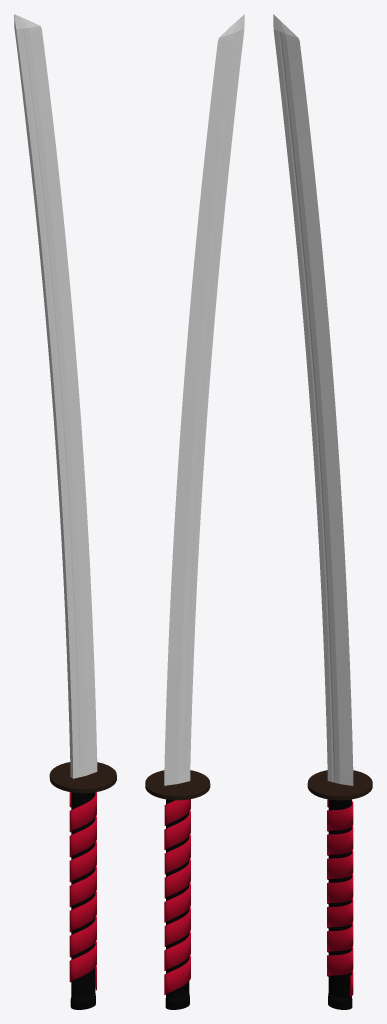
File: katanastraippi3.fbx
3 renders of one model, left to right at view 1: azimuth 30°, elevation 25°; view 2: azimuth 210°, elevation 25°; view 3: azimuth 330°, elevation 25°, orthographic. The views are drawn at different scales.
Parts seen in each view (by area): view 1: Cylinder, Plane.001; view 2: Cylinder, Plane.001; view 3: Cylinder, Plane.001.
Boxes of the visible parts, box(x1,y1,x2,y2) form: Cylinder: box(14, 14, 116, 1009); Plane.001: box(69, 792, 96, 990); Cylinder: box(145, 14, 244, 1009); Plane.001: box(164, 799, 190, 994); Cylinder: box(273, 14, 372, 1009); Plane.001: box(327, 799, 353, 996).
Bounding box in the file's own units: 338 × 3308 × 200.
